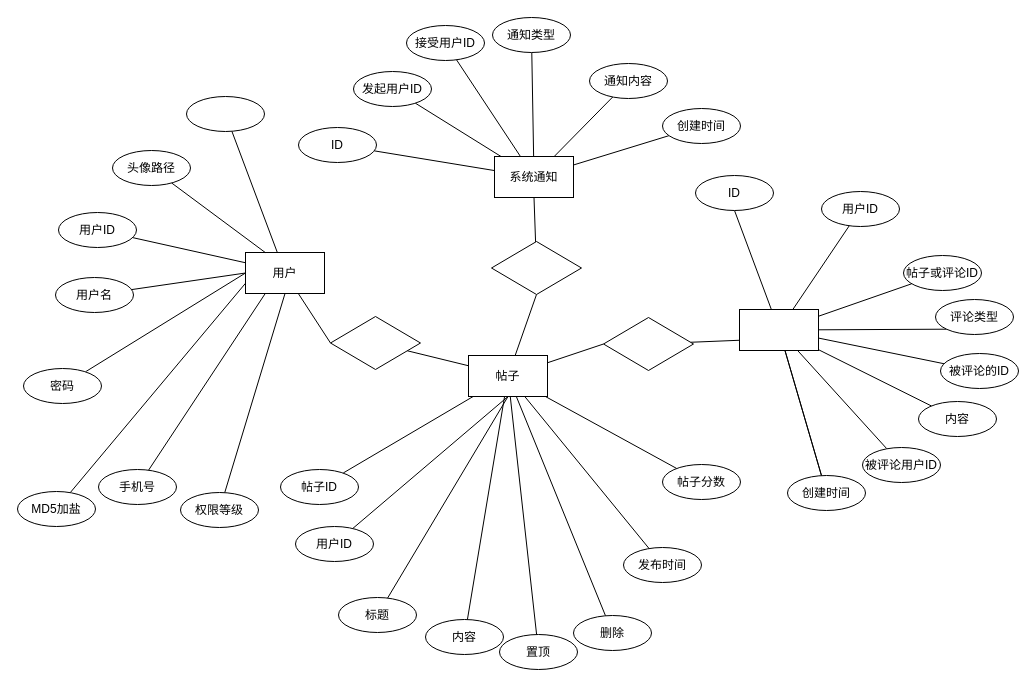
The diagram is 1036 pixels wide and 687 high, and some of its shapes have lost their labels. The shapes that lost their labels are listed below. From the top down, each one's centre as x and y in pixels, then its label:
At point 225,114: "注册时间".
At point 536,267: "发起".
At point 375,343: "操作".
At point 648,343: "记录".
At point 778,329: "评论".
